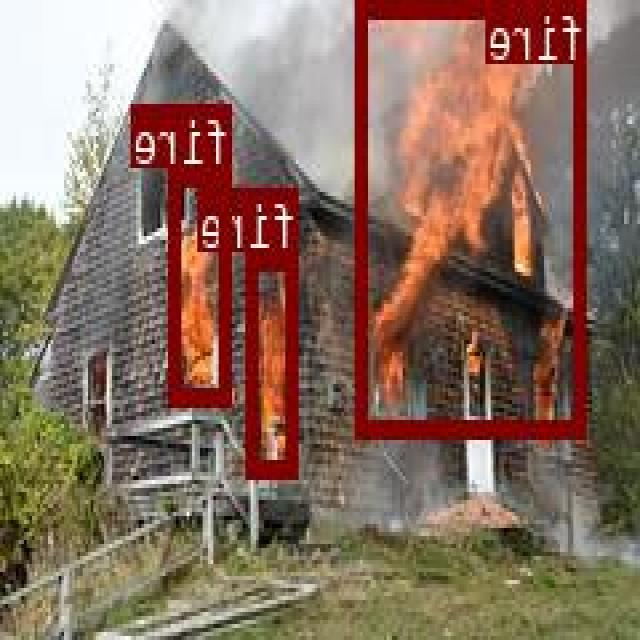fire: (359, 0, 588, 432), (171, 166, 234, 404), (249, 250, 301, 472)
